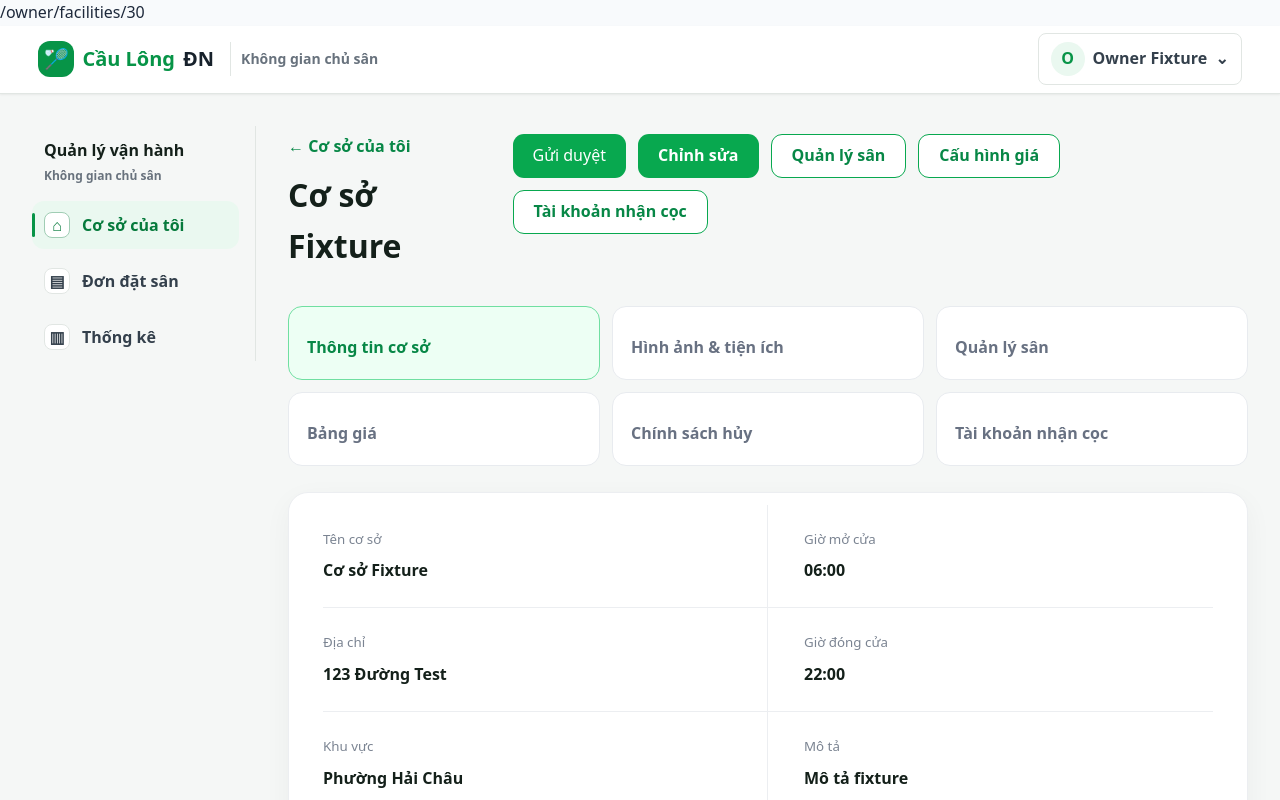
Test case: Owner confirms DRAFT submit, sends CSRF and refreshes to PENDING
Click the button "Gửi duyệt".
click(569, 156)  # box [512, 134, 626, 178]
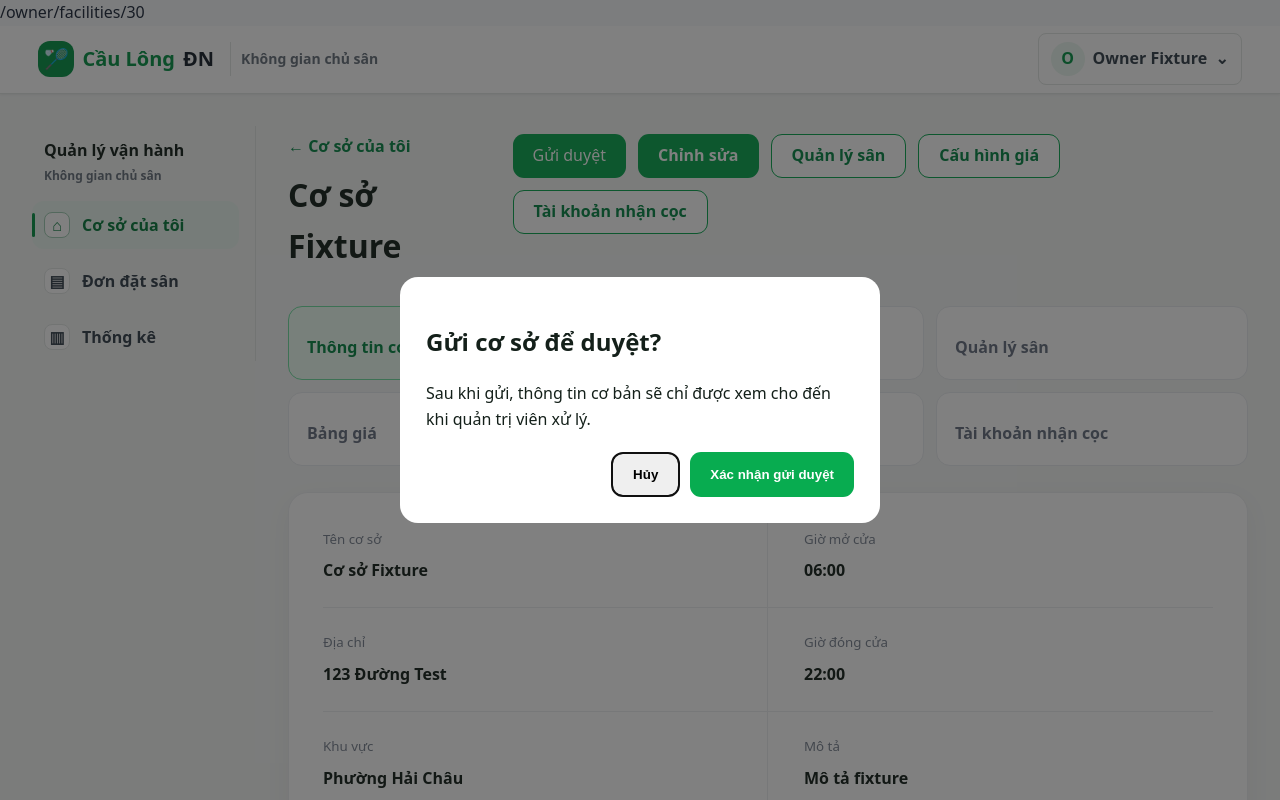
Now the dialog is shown, box [400, 277, 880, 523]
Click the button "Xác nhận gửi duyệt".
click(772, 475)  # box [690, 452, 854, 497]
(page scrolled)
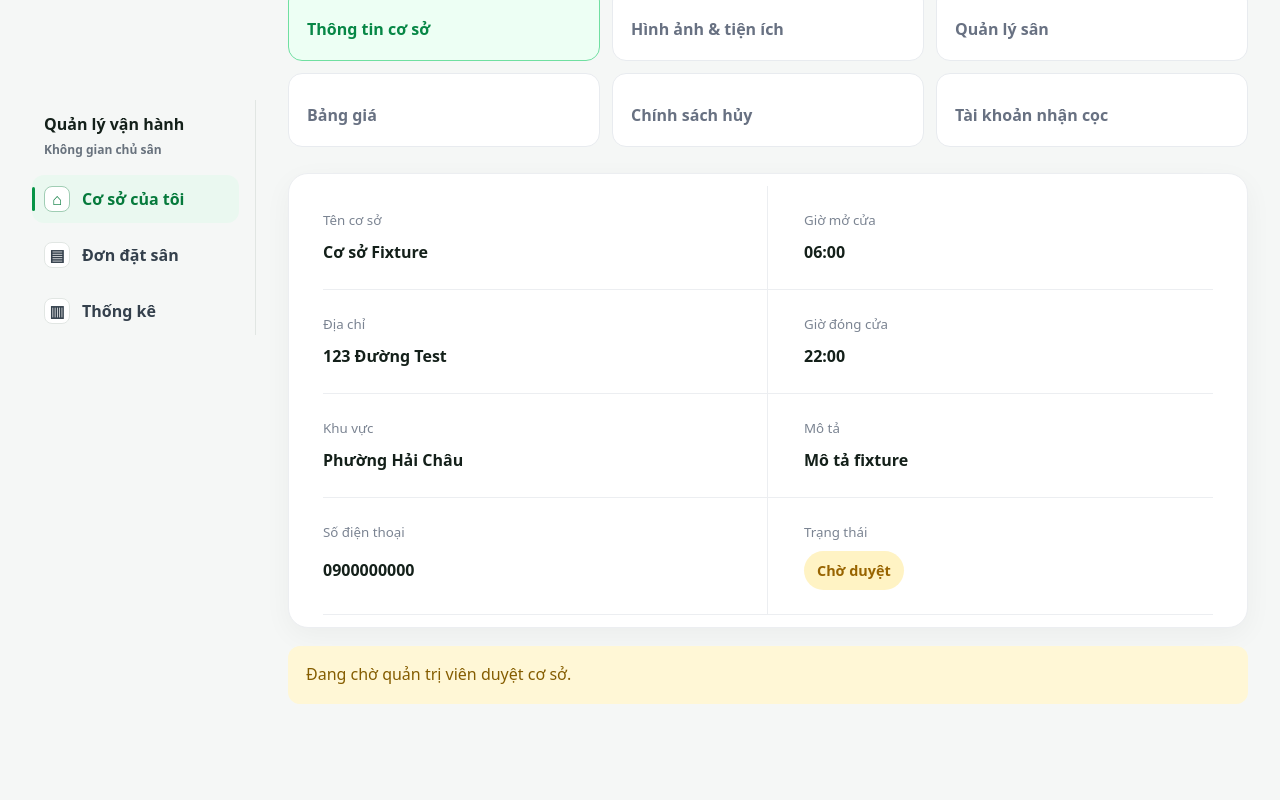
Now the text "Đang chờ quản trị viên duyệt cơ sở." is shown, box [288, 646, 1248, 704]
Now the button "Gửi duyệt" is gone
